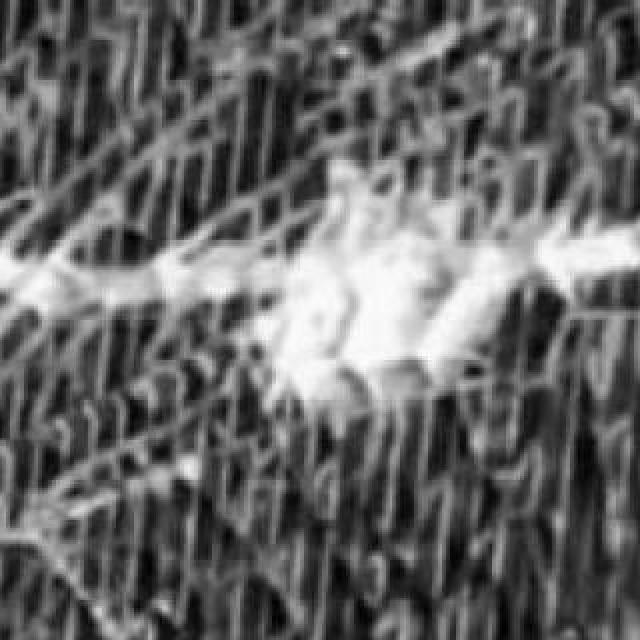Physical-damage: (6, 10, 626, 633)
